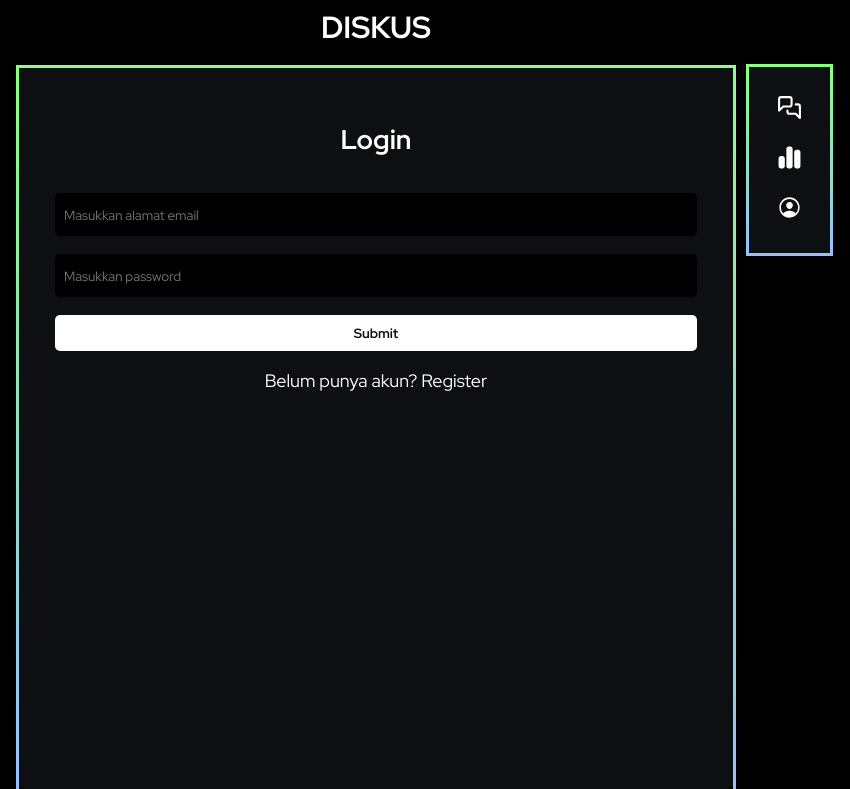
Test case: Login page spec › Should display warnings if inputs are empty
Click the submit button: (376, 333) x1=55 y1=315 x2=697 y2=351
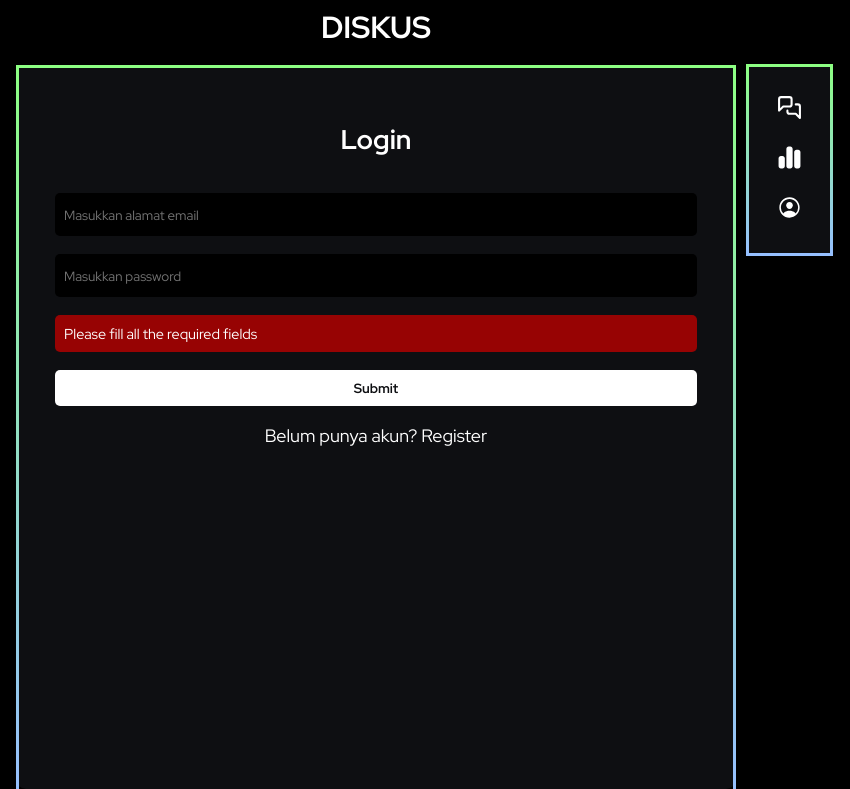
Check: the text "Please fill all the required fields" is shown, box x1=55 y1=315 x2=697 y2=352
